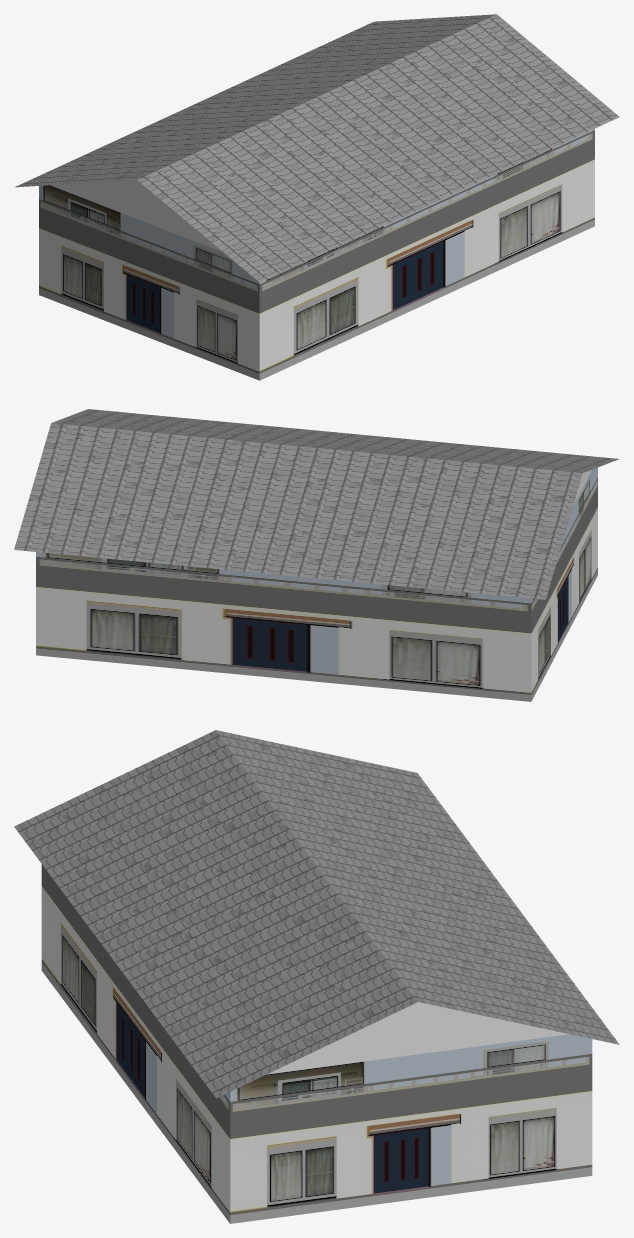
3 renders of one model, top to bottom at view 1: azimuth 30°, elevation 25°; view 2: azimuth 150°, elevation 25°; view 3: azimuth 270°, elevation 25°, orthographic. The views are drawn at different scales.
Parts seen in each view (by area): view 1: CityEngineMaterial_4_m, CityEngineMaterial_7_m, CityEngineMaterial_3_m; view 2: CityEngineMaterial_4_m, CityEngineMaterial_7_m; view 3: CityEngineMaterial_4_m, CityEngineMaterial_7_m, CityEngineMaterial_3_m.
Boxes of the visible parts, left/top/right/bottom form: CityEngineMaterial_4_m: left=15, top=14, right=619, bottom=282; CityEngineMaterial_7_m: left=39, top=128, right=594, bottom=380; CityEngineMaterial_3_m: left=51, top=180, right=223, bottom=252; CityEngineMaterial_4_m: left=14, top=409, right=619, bottom=599; CityEngineMaterial_7_m: left=36, top=467, right=597, bottom=701; CityEngineMaterial_4_m: left=14, top=730, right=619, bottom=1098; CityEngineMaterial_7_m: left=41, top=864, right=592, bottom=1223; CityEngineMaterial_3_m: left=267, top=1002, right=568, bottom=1074.
Bounding box in the file's own units: 33.35 × 9.89 × 26.23.
